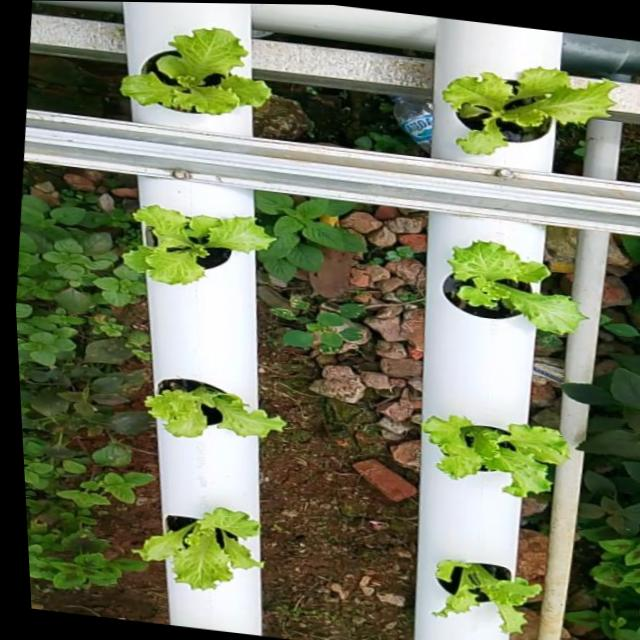Baby: (119, 27, 271, 133), (443, 70, 619, 159), (437, 236, 583, 331), (122, 204, 277, 285), (417, 412, 566, 494), (129, 504, 260, 586), (140, 375, 282, 434), (429, 555, 538, 628)
